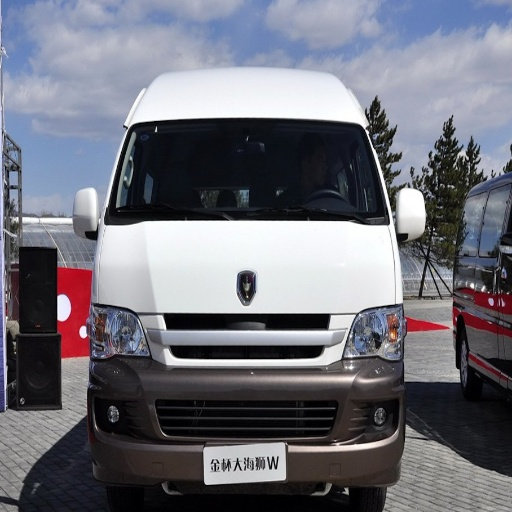front_bumper: (89, 313, 404, 495)
front_right_light: (84, 303, 147, 359)
hood: (97, 222, 398, 313)
left_mirror: (396, 189, 426, 239)
